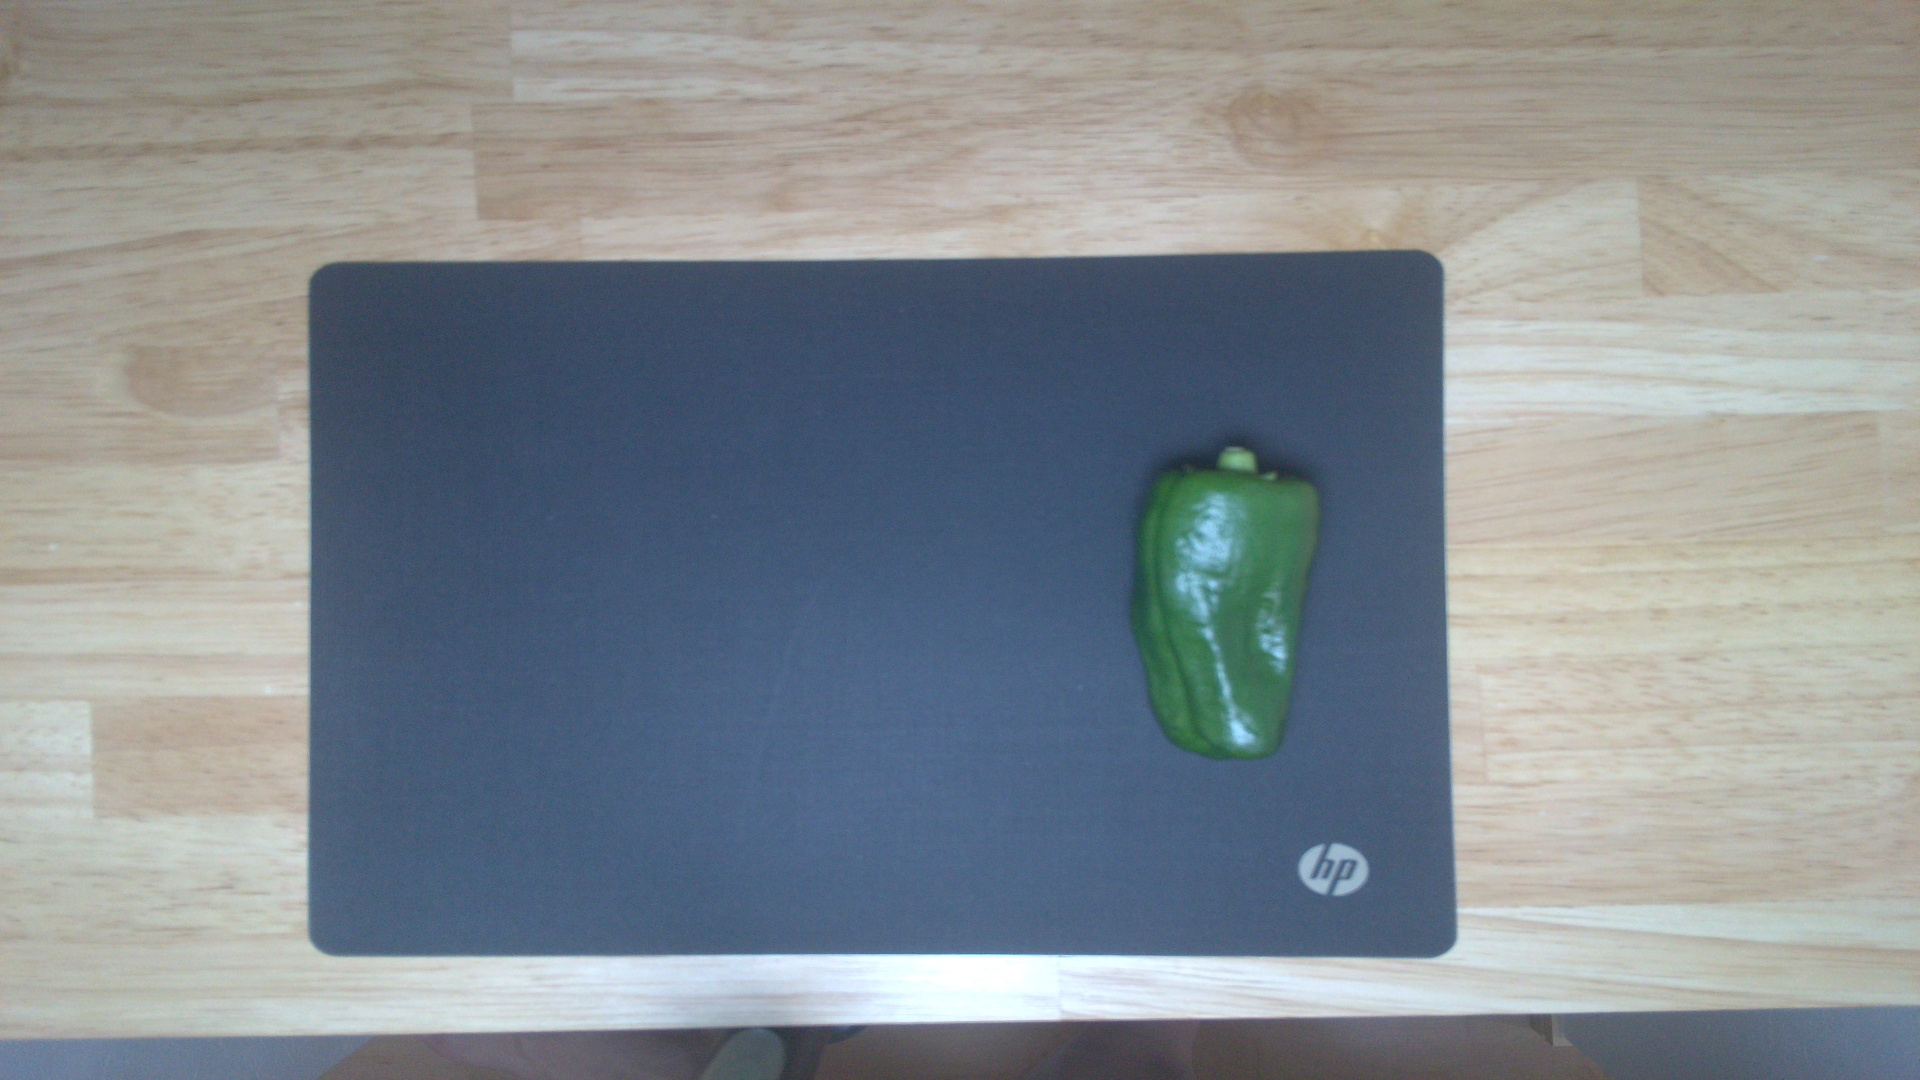Piman: (1125, 444, 1323, 765)
